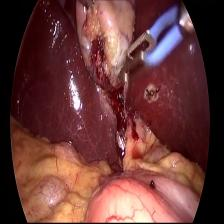Bipolar: (118, 4, 181, 91)
